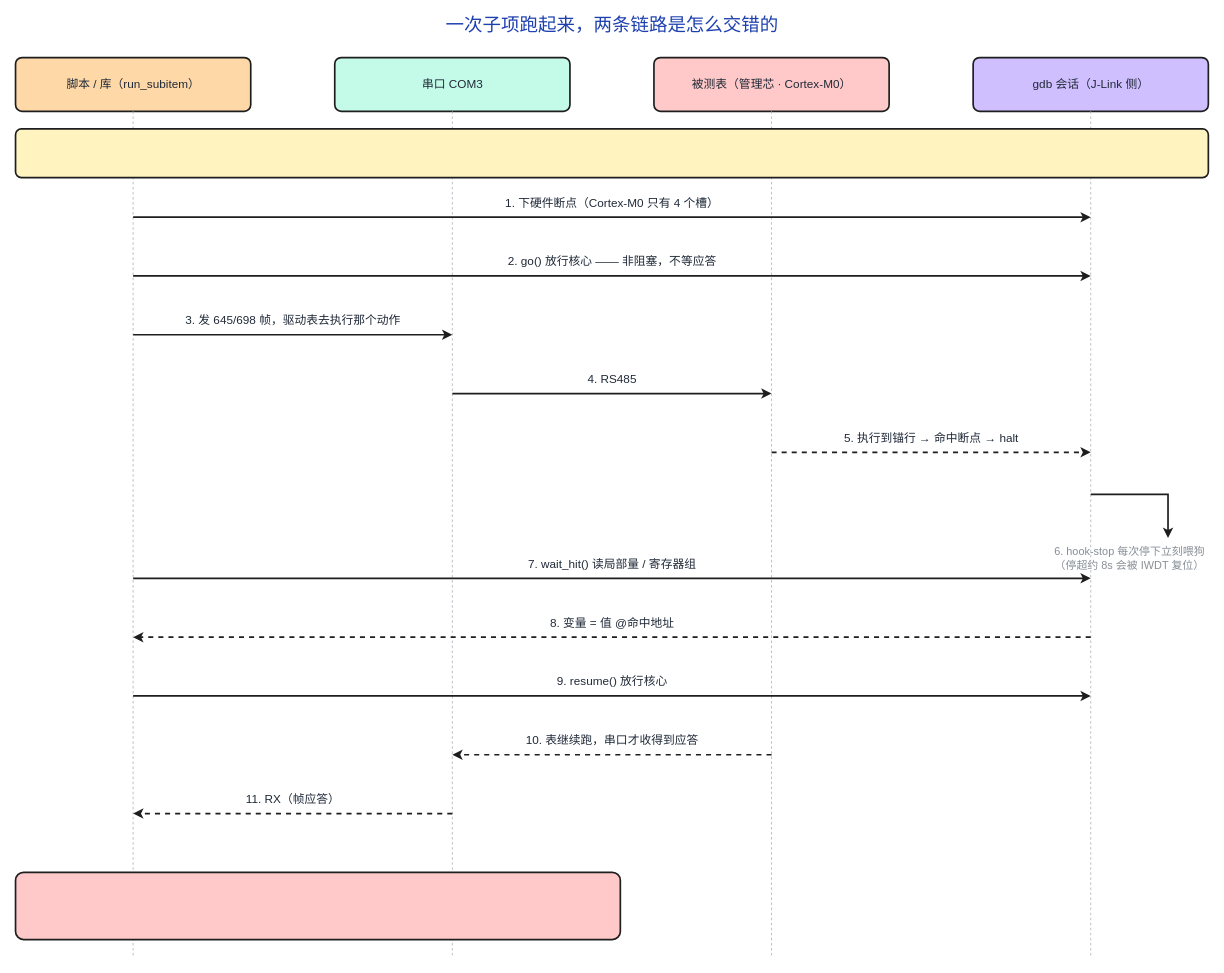
Image size: 1224x973. Some labels were removed from this diagram. Each missing label, with the centre of its shape:
"先 attach —— 只观测不复位（launch 会清 RAM 态，禁用）" belongs at point 611,153.
"顺序反了（先等串口应答再读断点）必然翻车 分两个进程靠掐时间也必然翻车 —— 这就是 go() 必须非阻塞的原因" belongs at point 317,905.
